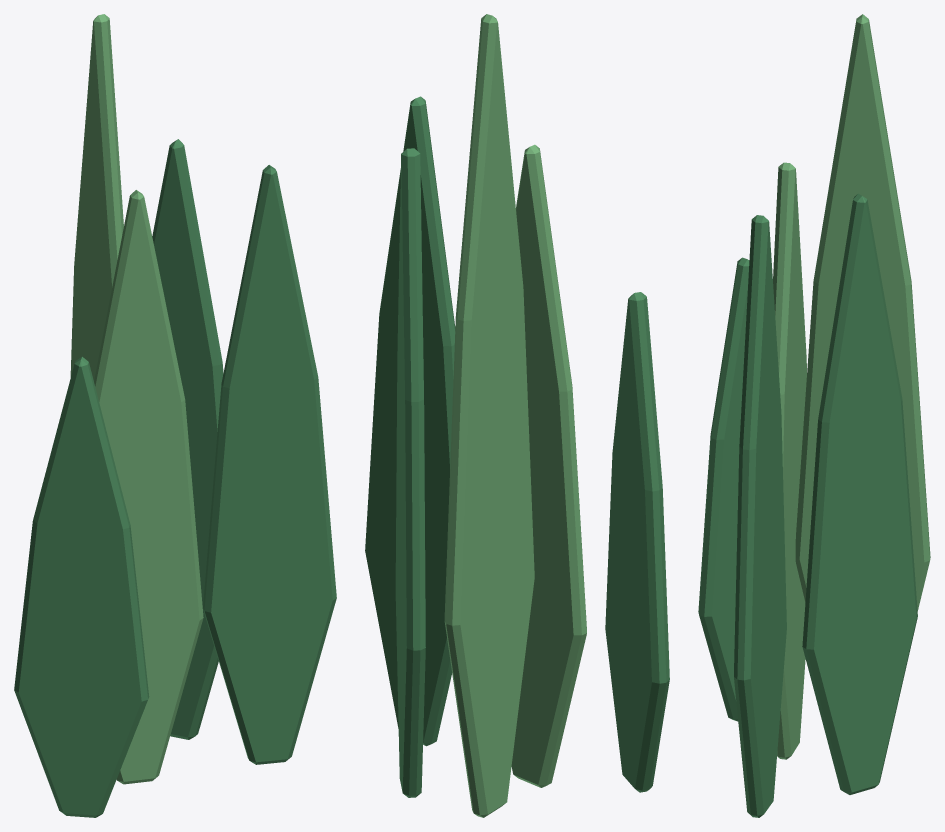
Rendered from prop_uw_eelgrass_b.glb.
3 views of the same model, side by side, from view 1: azimuth 30°, elevation 25°; view 2: azimuth 150°, elevation 25°; view 3: azimuth 270°, elevation 25° (orthographic). The views are drawn at different scales.
Visible parts, largest first — view 1: eelb_1, eelb_2, eelb_3, eelb_4, eelb_0; view 2: eelb_0, eelb_3, eelb_1, eelb_2, eelb_4; view 3: eelb_4, eelb_0, eelb_1, eelb_3, eelb_2.
Part boxes in pixels (box(x1,y1,x2,y2)): eelb_1: box(203, 165, 336, 764); eelb_2: box(14, 356, 149, 817); eelb_3: box(94, 190, 203, 784); eelb_4: box(152, 139, 223, 739); eelb_0: box(70, 14, 123, 380); eelb_0: box(444, 14, 534, 817); eelb_3: box(511, 144, 586, 787); eelb_1: box(365, 96, 455, 746); eelb_2: box(605, 292, 669, 792); eelb_4: box(395, 148, 425, 797); eelb_4: box(802, 193, 917, 794); eelb_0: box(795, 14, 930, 610); eelb_1: box(734, 215, 786, 817); eelb_3: box(773, 162, 806, 759); eelb_2: box(698, 257, 749, 721).
Bounding box in the file's own units: 0.2142 × 0.5036 × 0.1434.
